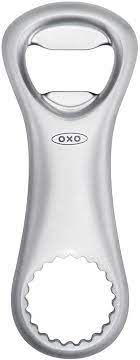bottleopener: (1, 1, 140, 358)
